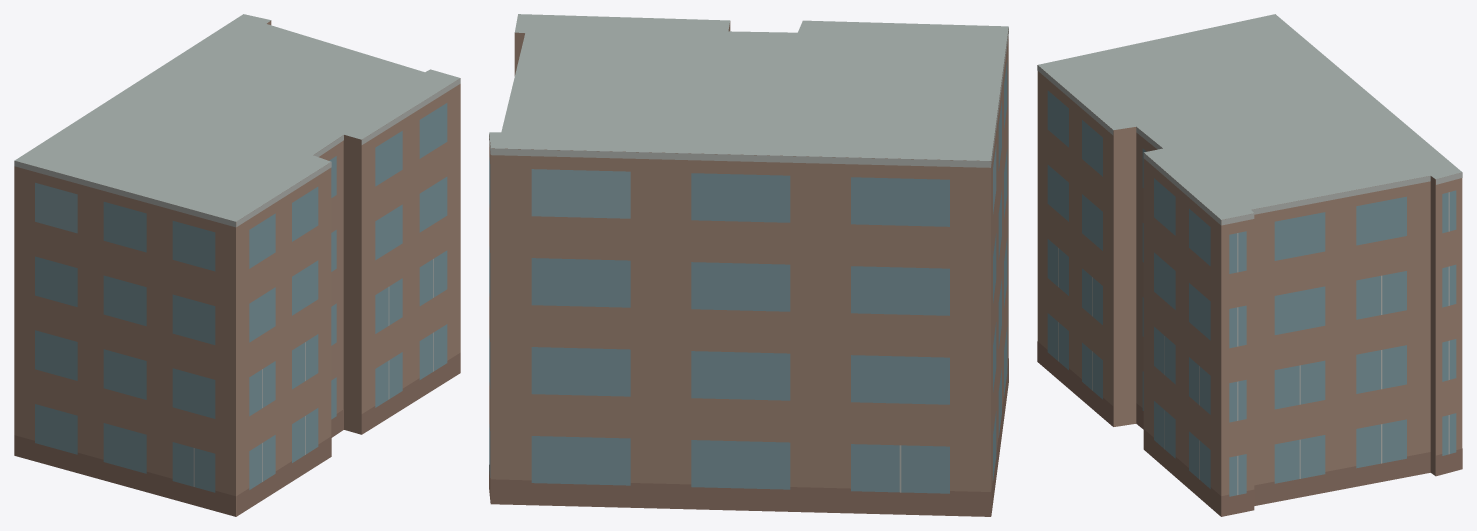
Rendered from survey-upis-32741816.glb.
The picture shows the model from 3 angles, left to right: view 1: azimuth 30°, elevation 25°; view 2: azimuth 150°, elevation 25°; view 3: azimuth 270°, elevation 25°; orthographic projection. The views are drawn at different scales.
Parts seen in each view (by area): view 1: survey-upis-32741816.tmp; view 2: survey-upis-32741816.tmp; view 3: survey-upis-32741816.tmp.
Part boxes in pixels (box(x1,y1,x2,y2)): survey-upis-32741816.tmp: box(14, 14, 460, 516); survey-upis-32741816.tmp: box(489, 14, 1008, 516); survey-upis-32741816.tmp: box(1037, 14, 1462, 516).
Size of the model in its own units: 19.04 by 12.8 by 16.61.
